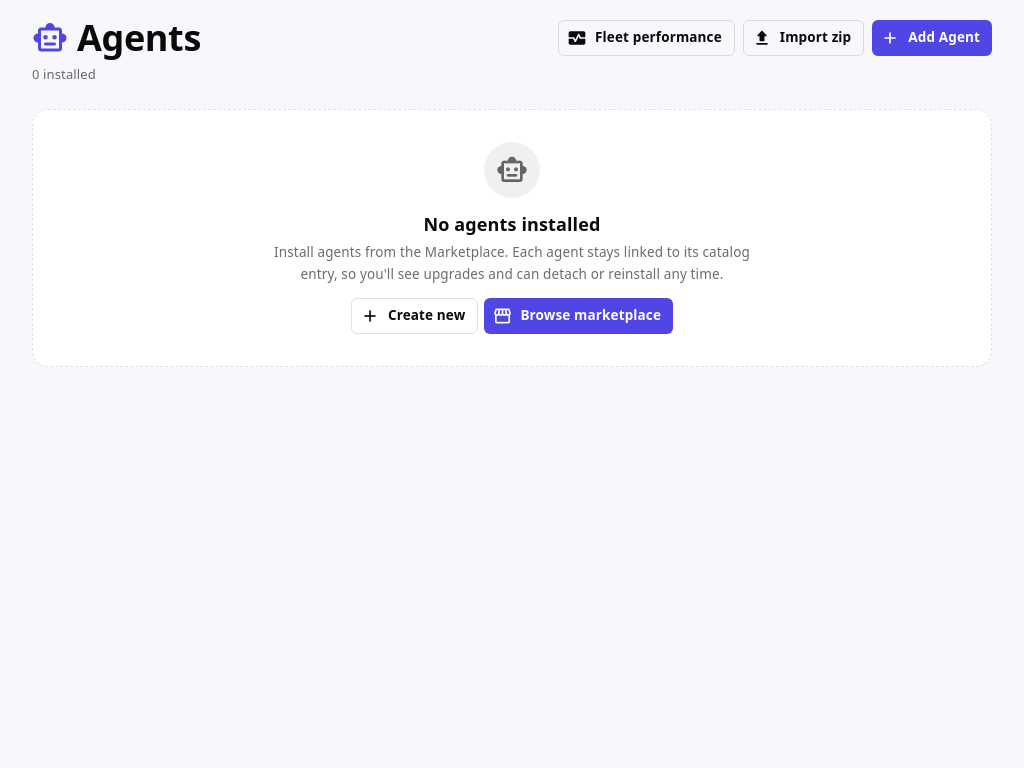
it: Agents page › Add Agent dialog has agent name field
Expected: the text "No agents installed" is shown, [424,212,601,236]
What coordinates should you click on to do the following:
click the button "Add Agent"
I would click on:
 (932, 38)
Its box is [872,20,992,56].
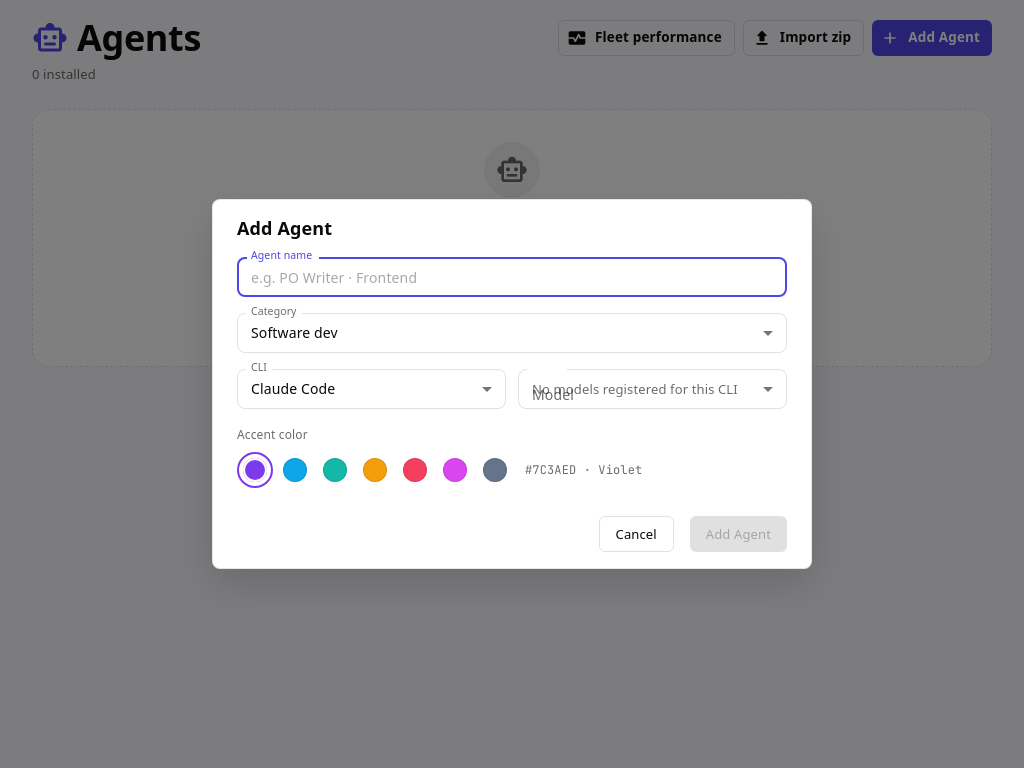
Result: the dialog is shown at [212,199,812,569]
Result: the field labelled "Agent name" is shown at [237,257,787,297]
